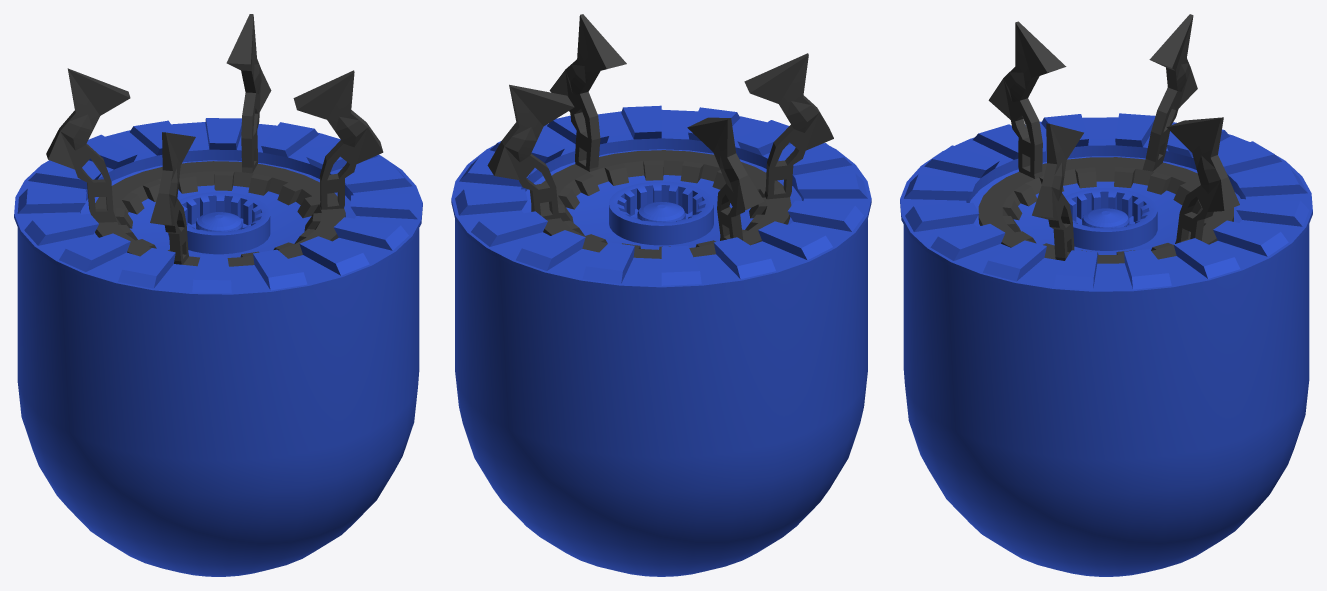
Rendered from BluePill.gltf.
3 renders of one model, left to right at view 1: azimuth 30°, elevation 25°; view 2: azimuth 150°, elevation 25°; view 3: azimuth 270°, elevation 25°, orthographic. The views are drawn at different scales.
Parts seen in each view (by area): view 1: BluePill, MovingBlock2; view 2: BluePill, MovingBlock2; view 3: BluePill, MovingBlock2.
Boxes of the visible parts, x1,y1,x2,y2 form: BluePill: (14, 118, 422, 576); MovingBlock2: (46, 14, 383, 266); BluePill: (451, 105, 871, 576); MovingBlock2: (487, 14, 833, 258); BluePill: (900, 113, 1312, 576); MovingBlock2: (978, 14, 1239, 263).
Bounding box in the file's own units: 1.53 × 2.01 × 1.53.
